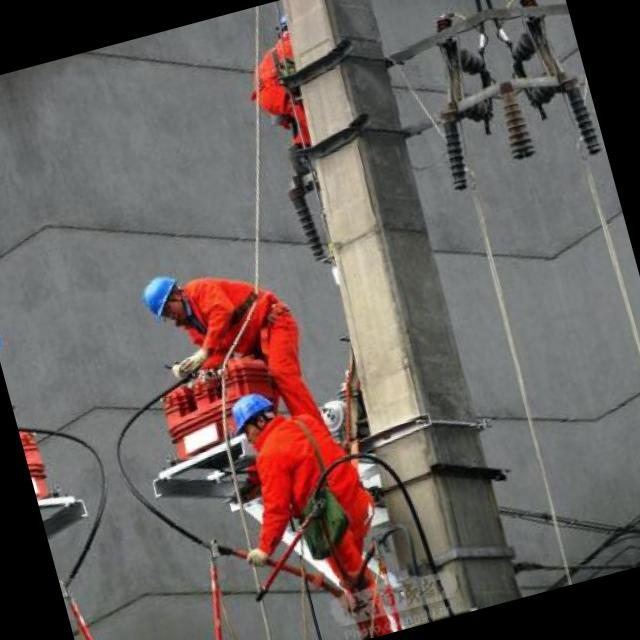helmet: (222, 384, 286, 452), (134, 268, 194, 331)
